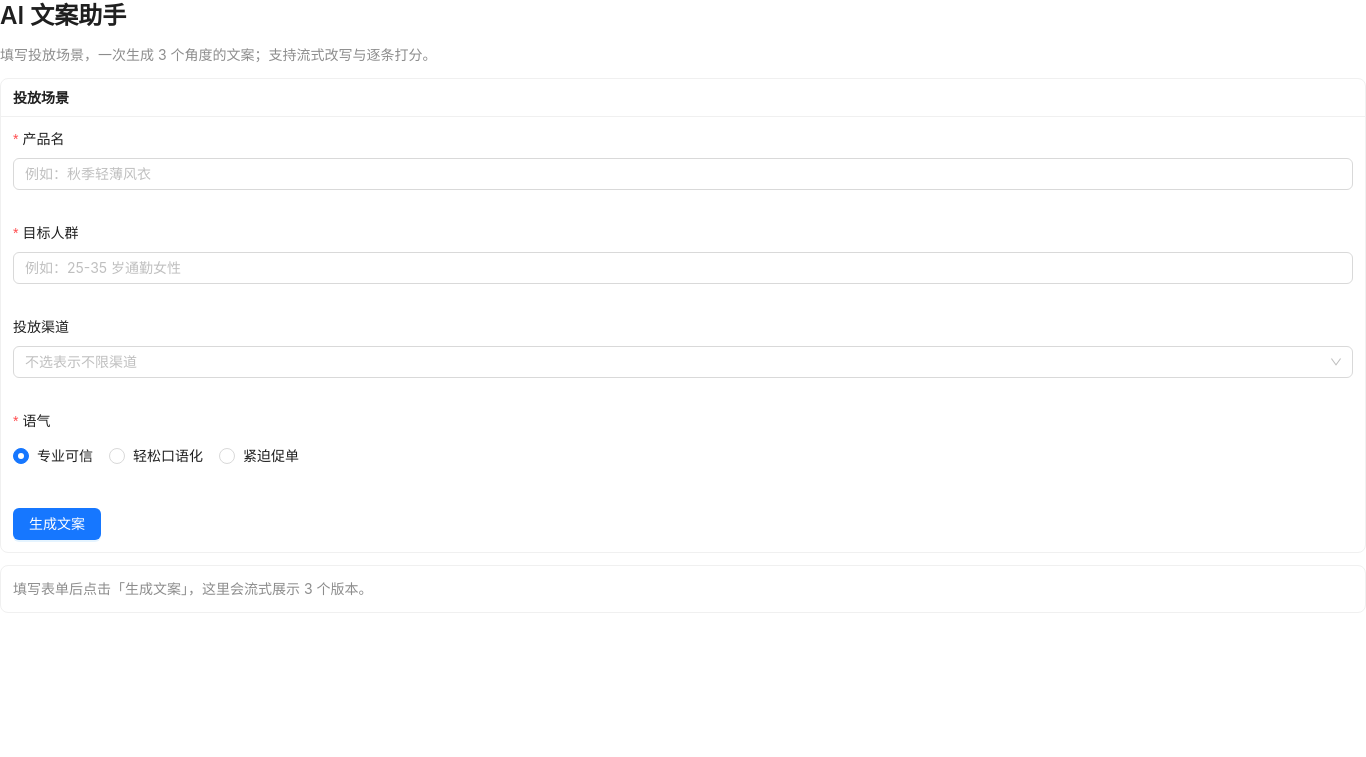
Test case: AiCopilotPage › 生成失败时显示错误与重试
In the field labelled "产品名": (675, 174) [25,163,1325,185], type "秋季轻薄风衣"
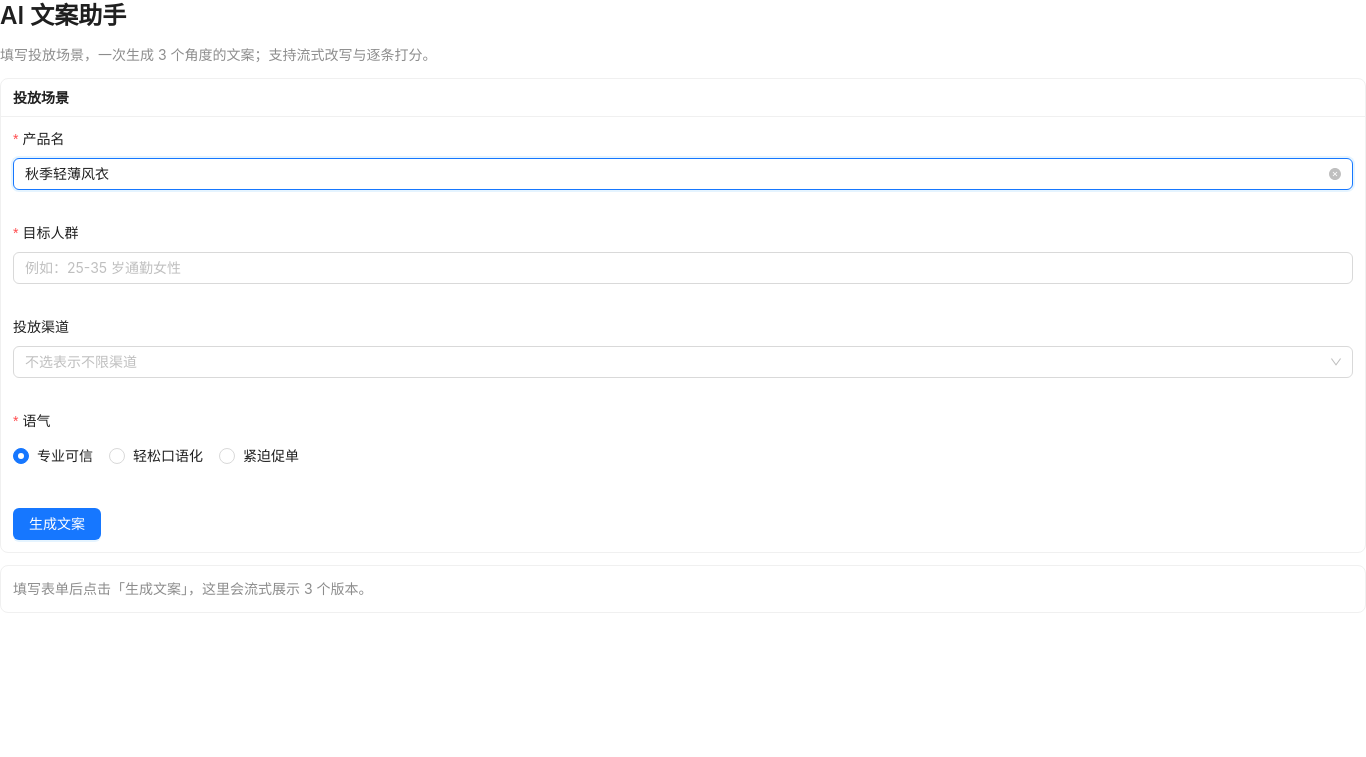
In the field labelled "目标人群": (675, 268) [25,257,1325,279], type "25-35 岁通勤女性"
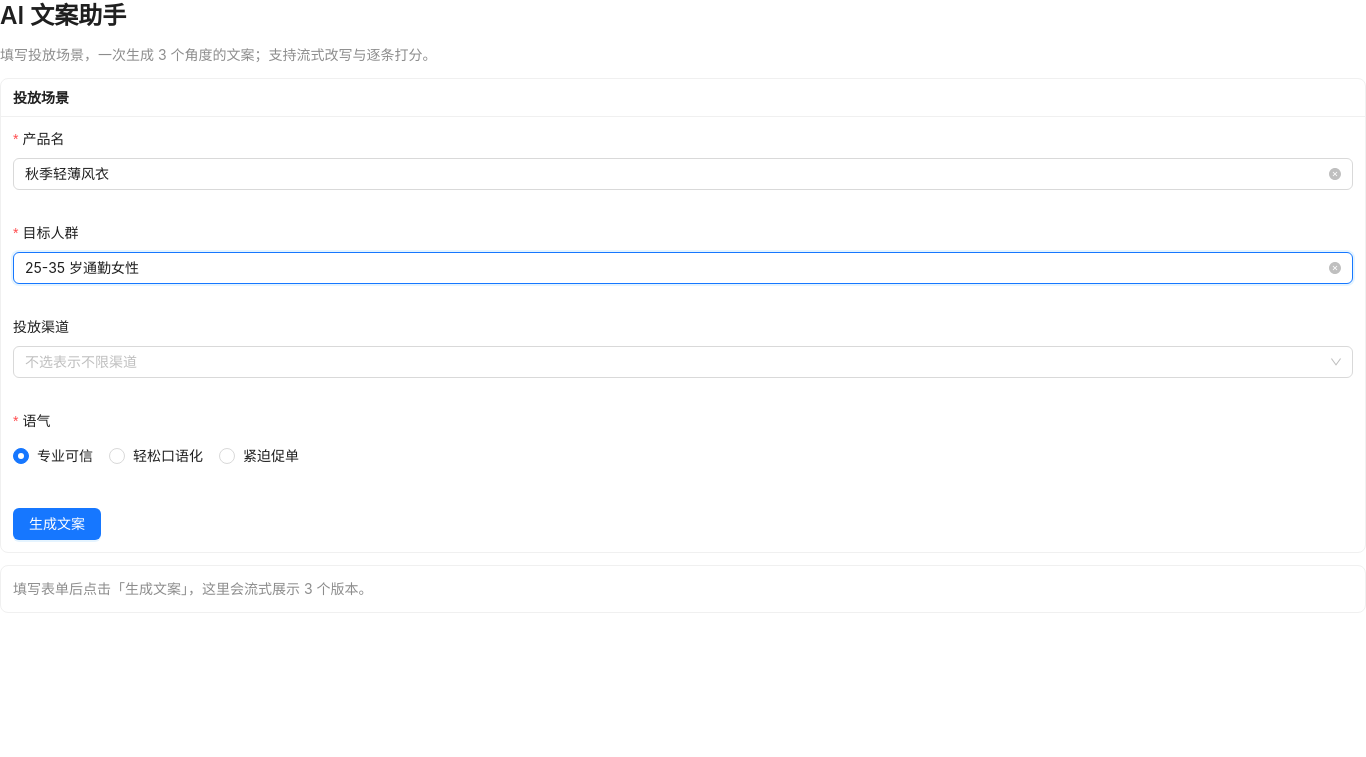
Click the button "生成文案": (57, 524) [13,508,101,540]
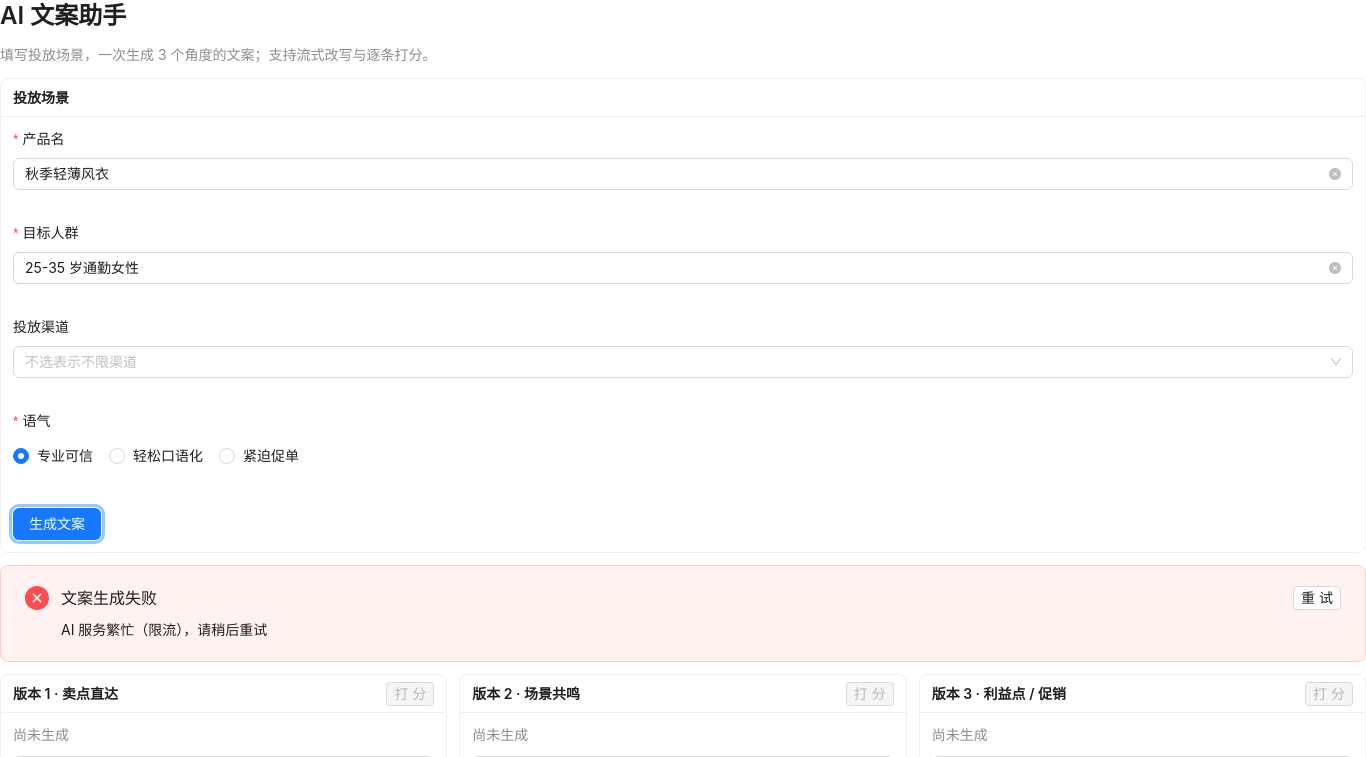
Check: the text "文案生成失败" is shown, box [61,588,157,608]
Check: the text "AI 服务繁忙（限流），请稍后重试" is shown, box [61,621,267,638]
Check: the button "重 试" is shown, box [1293,586,1341,610]
